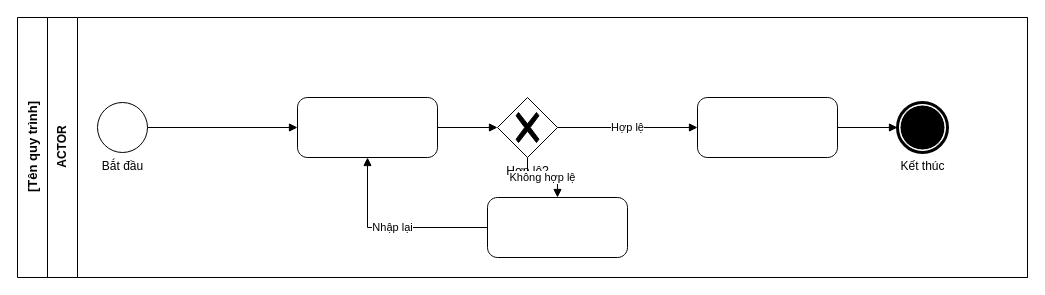
The diagram is 1045 pixels wide and 295 high, and some of its shapes have lost their labels. The centre of each missing label's shape, as x and y in pixels:
Báo lỗi: the point at 557,227
Nhập dữ liệu: the point at 367,127
Xử lý dữ liệu: the point at 767,127
